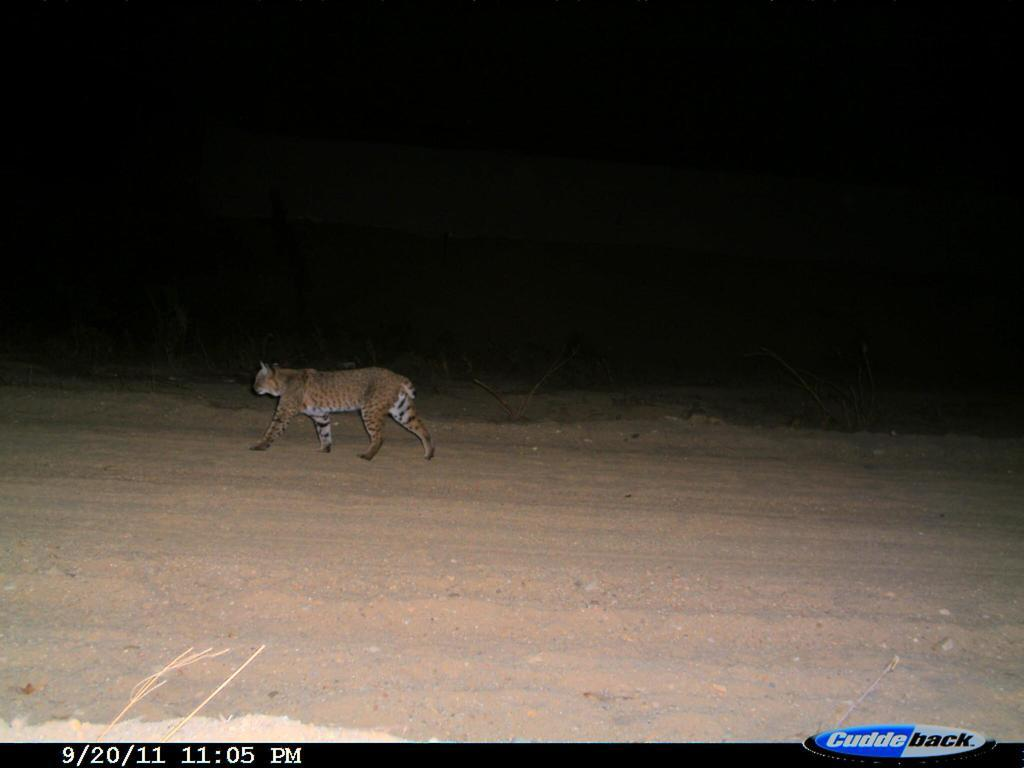bobcat: (239, 354, 447, 465)
